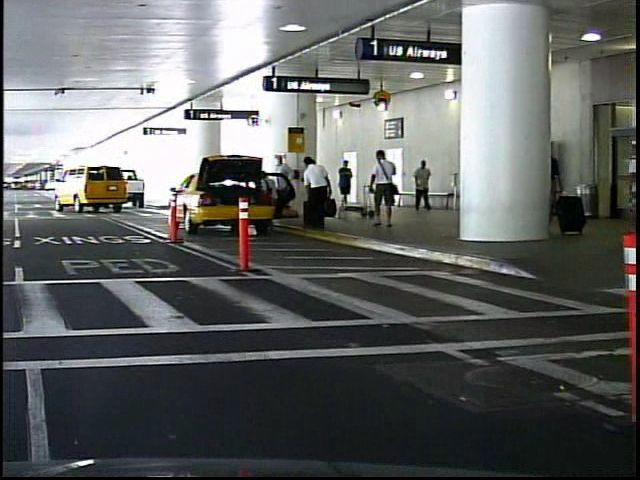person: (362, 145, 399, 231), (409, 153, 430, 215)
